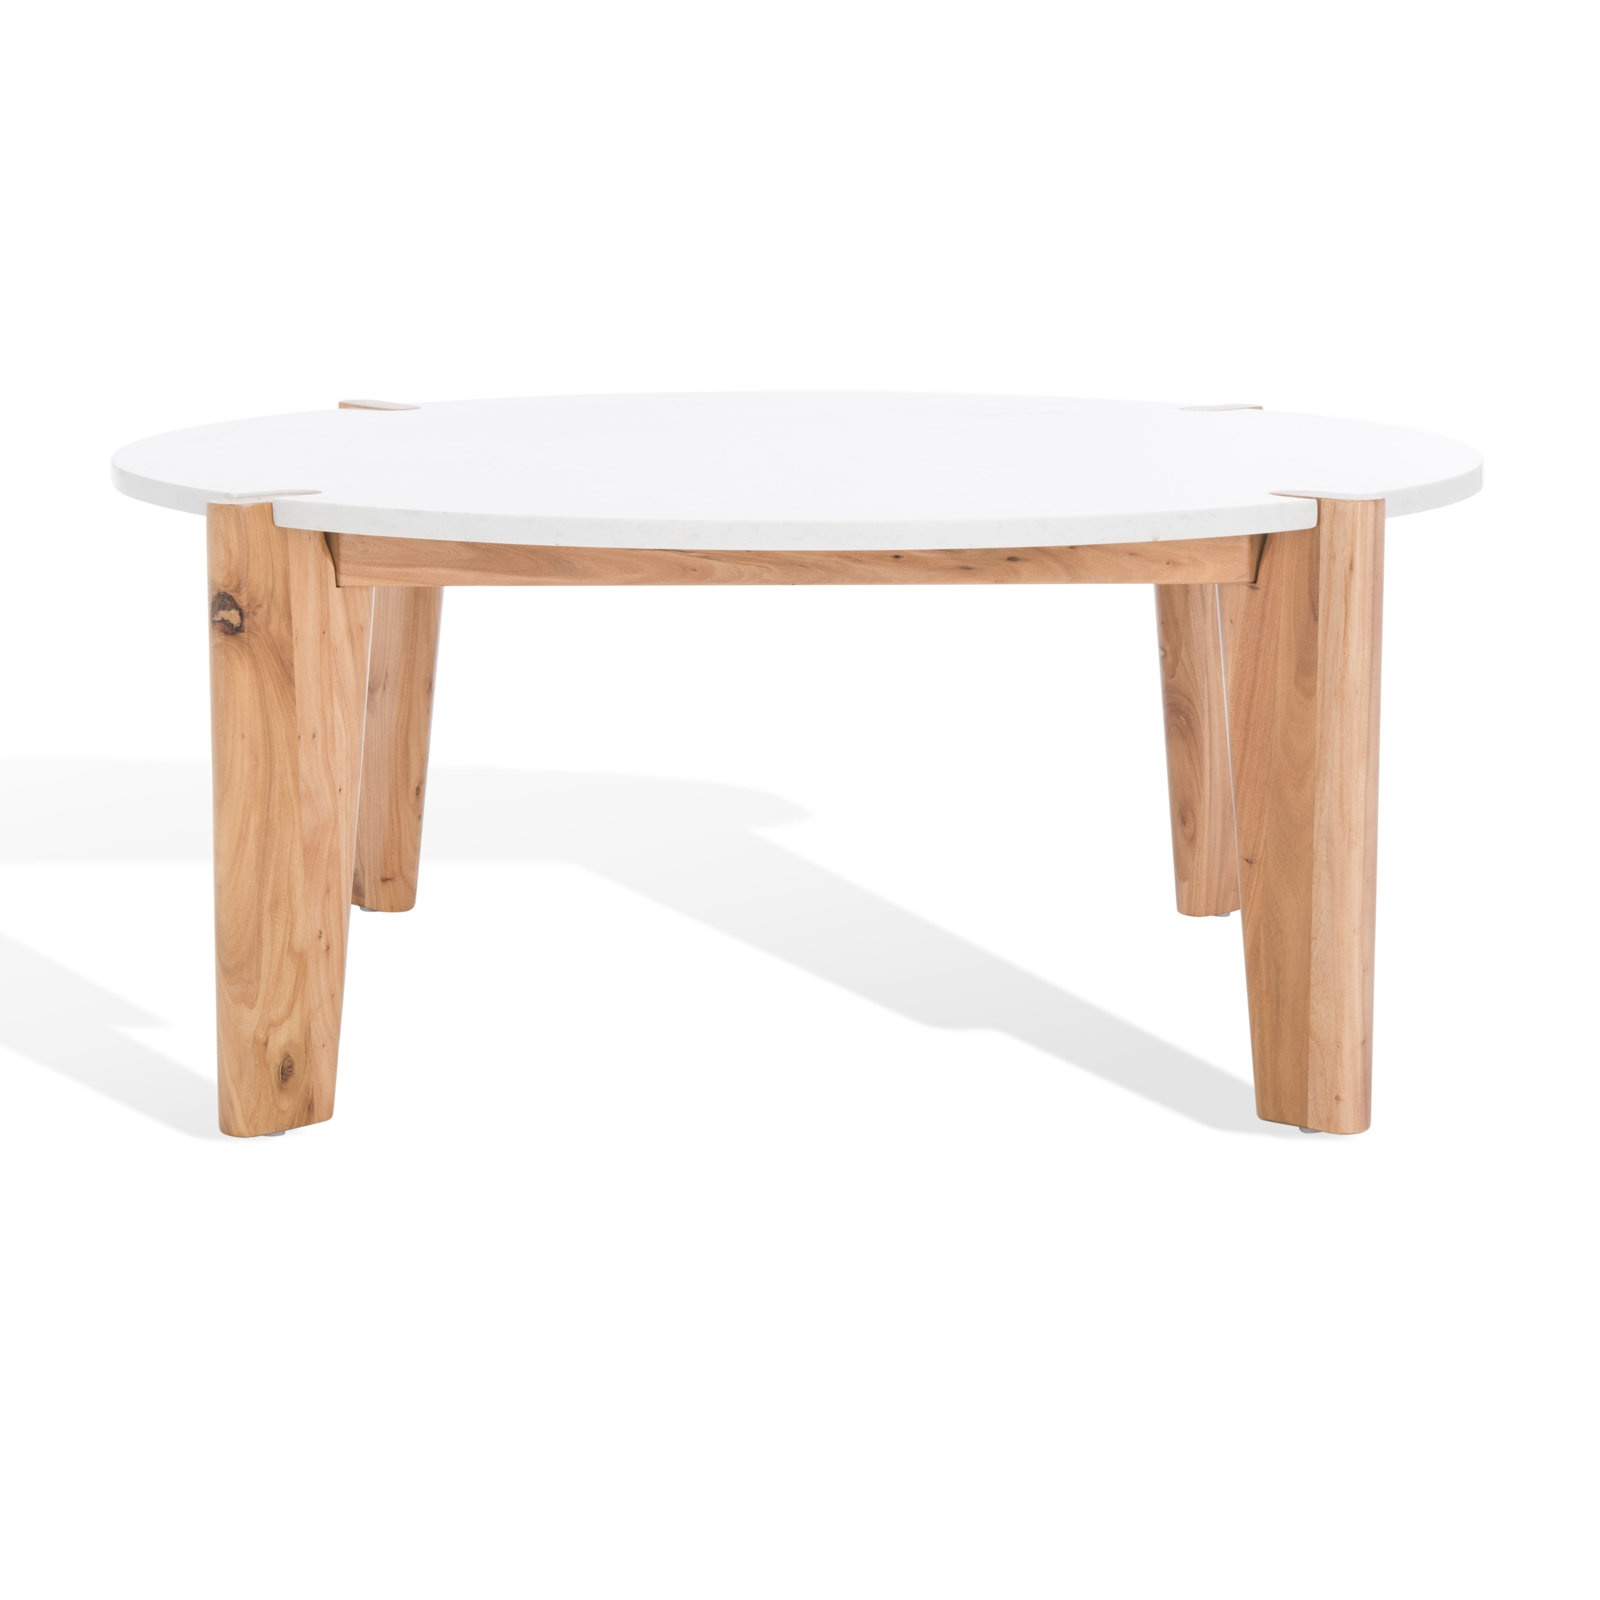obstacle: (113, 393, 1480, 1136)
